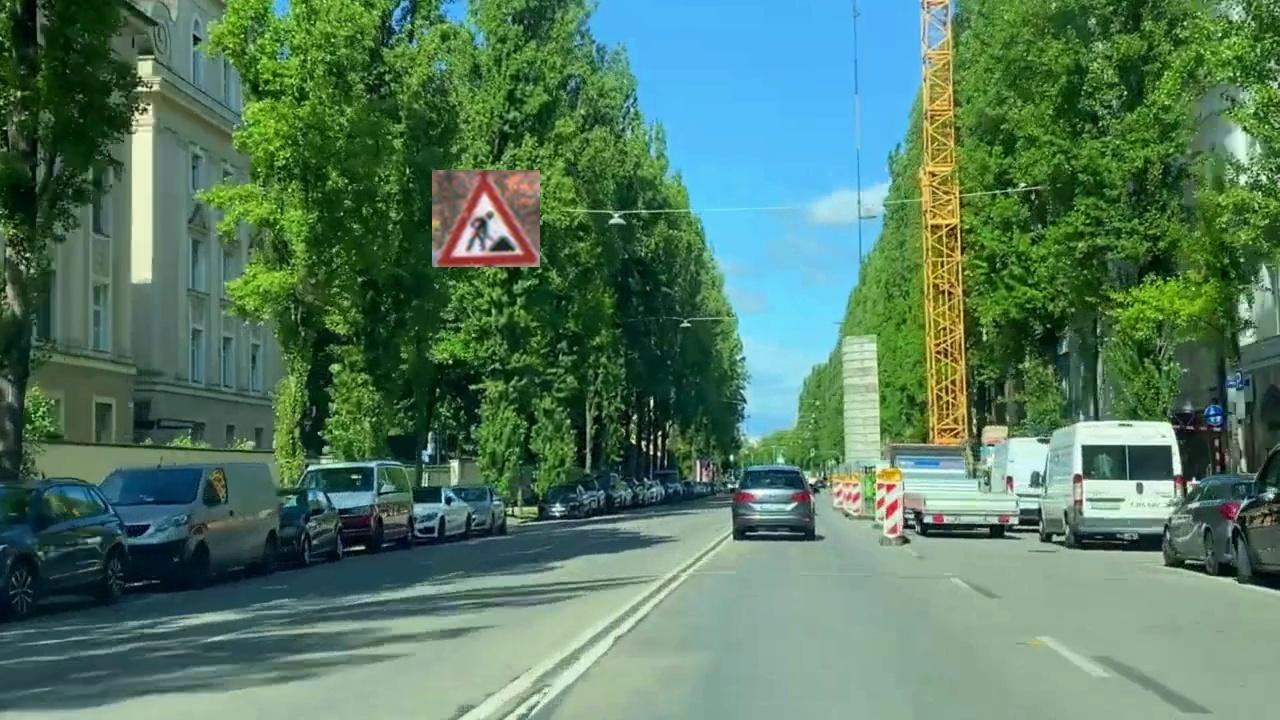Road work: (432, 170, 540, 267)
